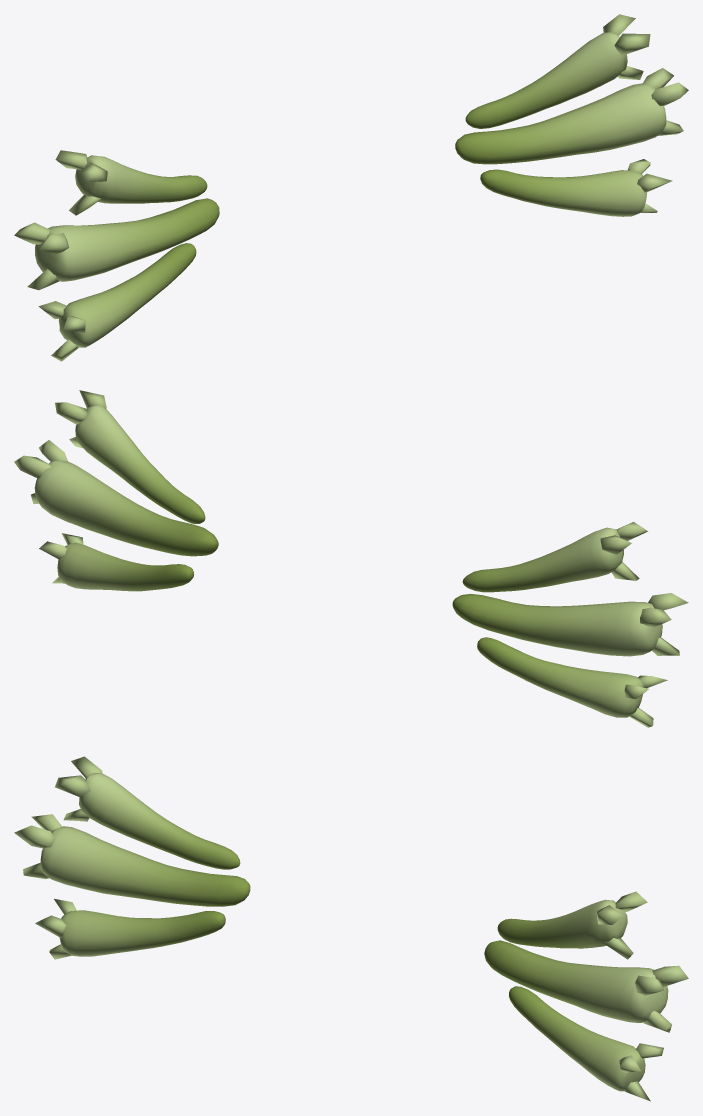
The model's file is potato_arms2.fbx.
The picture shows the model from 3 angles, top to bottom: view 1: azimuth 30°, elevation 25°; view 2: azimuth 150°, elevation 25°; view 3: azimuth 330°, elevation 25°; orthographic projection.
Parts seen in each view (by area): view 1: arms3_finger_nails; view 2: arms3_finger_nails; view 3: arms3_finger_nails.
Part boxes in pixels (x1,y1,x2,y2): arms3_finger_nails: (14, 14, 688, 361); arms3_finger_nails: (14, 390, 688, 727); arms3_finger_nails: (14, 756, 688, 1101).
Size of the model in its own units: 3.6 by 1.03 by 0.374.
